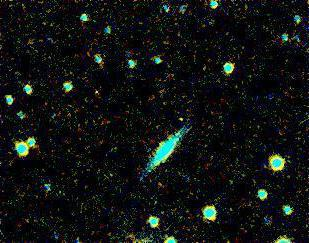star: (167, 105, 197, 135)
